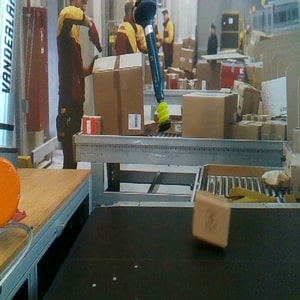box: (190, 189, 232, 249)
